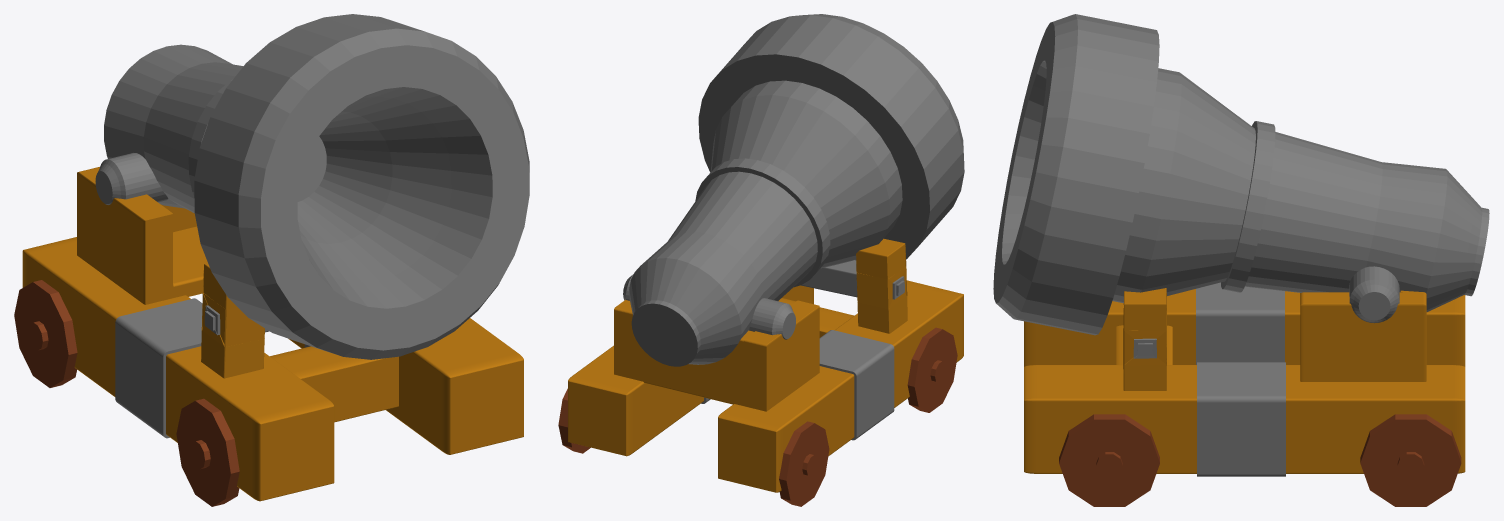
The model's file is Canon.fbx.
The picture shows the model from 3 angles, left to right: view 1: azimuth 30°, elevation 25°; view 2: azimuth 150°, elevation 25°; view 3: azimuth 270°, elevation 25°; orthographic projection. The views are drawn at different scales.
Visible parts, largest first — view 1: Cylinder, Cube, Cube.001, Cube.002, Cylinder.004, Cylinder.008, Cylinder.001; view 2: Cylinder, Cube, Cube.001, Cube.002, Cylinder.008, Cylinder.004, Cylinder.001, Cylinder.006; view 3: Cylinder, Cube, Cube.001, Cylinder.006, Cylinder.002, Cube.002, Cylinder.001, Cylinder.007, Cylinder.003.
Part boxes in pixels (box(x1,y1,x2,y2)): Cylinder: box(104, 14, 529, 359); Cube: box(22, 237, 523, 501); Cube.001: box(77, 167, 207, 304); Cube.002: box(201, 263, 269, 378); Cylinder.004: box(176, 398, 239, 506); Cylinder.008: box(14, 280, 77, 387); Cylinder.001: box(95, 153, 168, 204); Cylinder: box(629, 14, 964, 366); Cube: box(568, 280, 963, 492); Cube.001: box(614, 299, 819, 411); Cube.002: box(801, 238, 907, 333); Cylinder.008: box(779, 421, 829, 506); Cylinder.004: box(907, 327, 957, 412); Cylinder.001: box(623, 274, 795, 339); Cylinder.006: box(558, 388, 590, 453); Cylinder: box(993, 14, 1489, 335); Cube: box(1024, 282, 1465, 476); Cube.001: box(1300, 290, 1426, 381); Cylinder.006: box(1360, 414, 1461, 506); Cylinder.002: box(1059, 414, 1159, 506); Cube.002: box(1123, 288, 1166, 390); Cylinder.001: box(1349, 266, 1399, 323); Cylinder.007: box(1397, 452, 1424, 477); Cylinder.003: box(1096, 452, 1122, 477).
Size of the model in its own units: 510 by 723 by 786.
